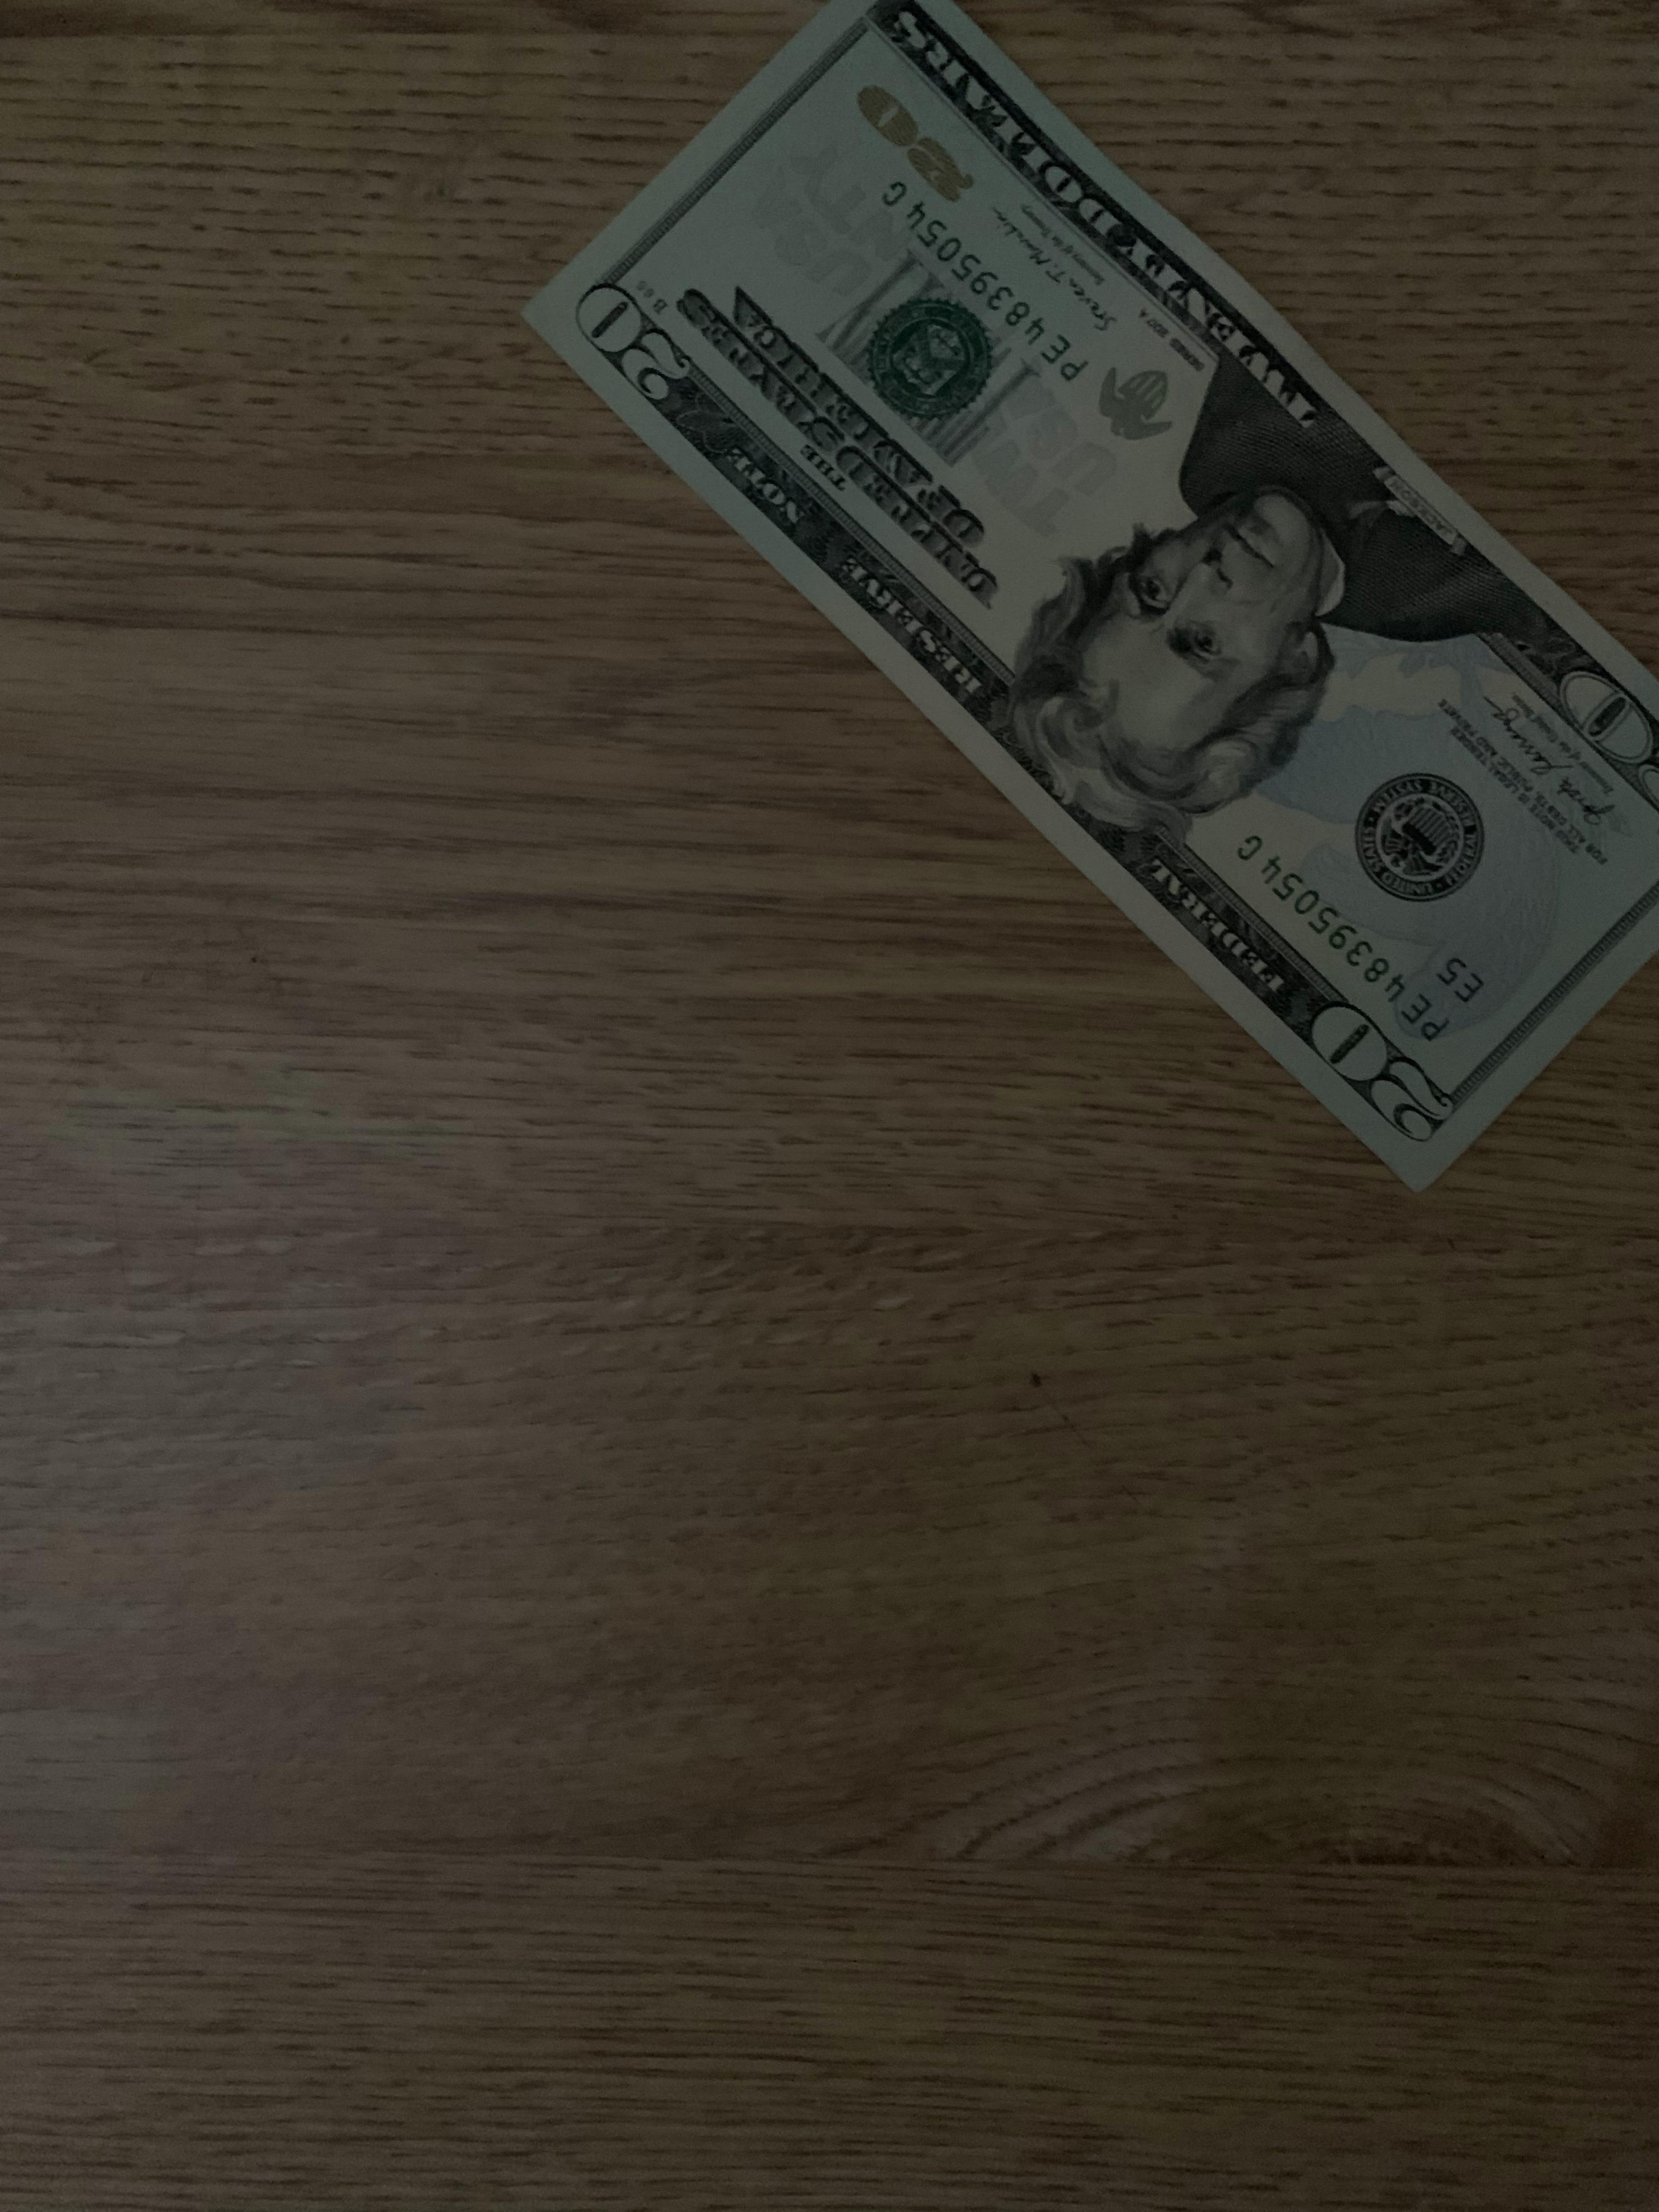TwentyBill: (507, 2, 1657, 1195)
